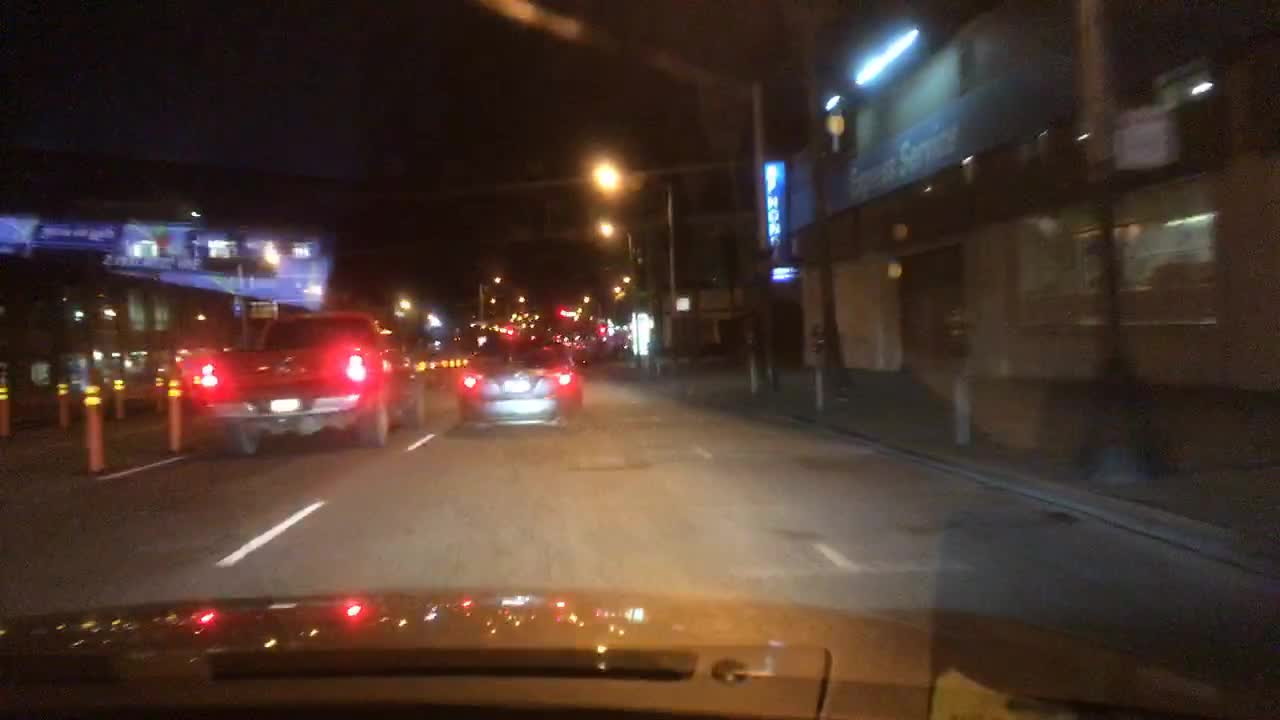car: (457, 336, 584, 432), (567, 341, 589, 368)
traffic light: (595, 320, 607, 336), (503, 324, 514, 339), (555, 305, 563, 322)
traffic sign: (673, 295, 692, 312)
truck: (179, 314, 427, 455)
